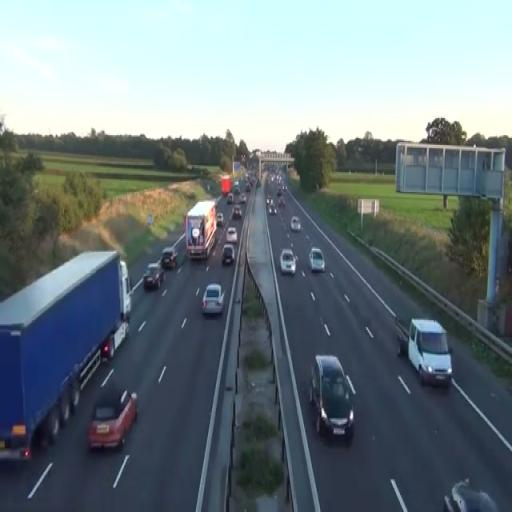Bus: (184, 199, 218, 260)
Car: (310, 354, 356, 442), (87, 386, 138, 452), (201, 283, 225, 316), (143, 262, 165, 290), (280, 247, 297, 276), (308, 248, 326, 273), (161, 246, 178, 269), (221, 244, 235, 265), (291, 216, 301, 232)
Truck: (0, 250, 133, 462), (408, 318, 453, 387), (185, 199, 217, 260)
